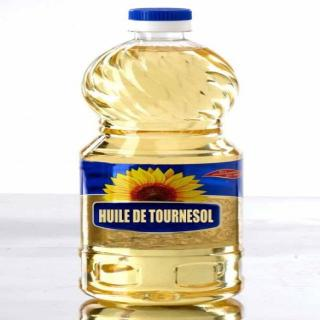Plastic-bottle: (61, 5, 261, 313)
